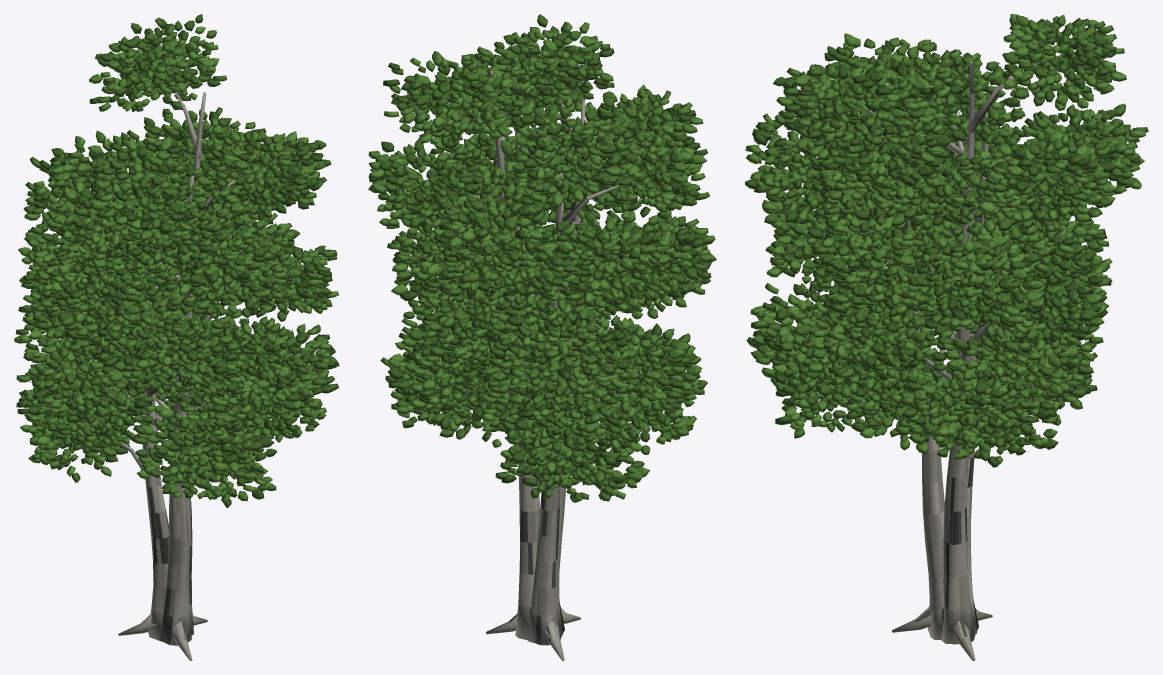
Rendered from forest-alder-0.glb.
3 views of the same model, side by side, from view 1: azimuth 30°, elevation 25°; view 2: azimuth 150°, elevation 25°; view 3: azimuth 270°, elevation 25° (orthographic). The views are drawn at different scales.
Parts seen in each view (by area): view 1: forest-alder-0/1, forest-alder-0/0; view 2: forest-alder-0/1, forest-alder-0/0; view 3: forest-alder-0/1, forest-alder-0/0.
Part boxes in pixels (x1=…): forest-alder-0/1: x1=14, y1=14, x2=339, y2=507; forest-alder-0/0: x1=90, y1=80, x2=271, y2=660; forest-alder-0/1: x1=368, y1=14, x2=716, y2=502; forest-alder-0/0: x1=423, y1=70, x2=650, y2=660; forest-alder-0/1: x1=745, y1=14, x2=1148, y2=467; forest-alder-0/0: x1=808, y1=61, x2=1050, y2=660.
Bounding box in the file's own units: 6.95 × 13.64 × 7.86.
